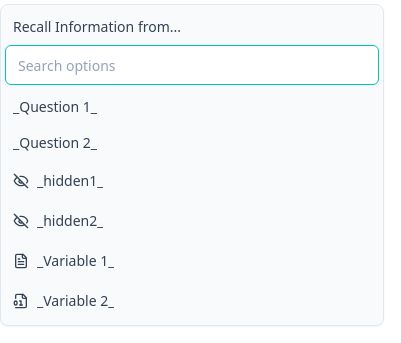
Test: RecallItemSelect › filters recall items based on search input
Step 1. Type "Variable" into the field with placeholder "Search options" → (192, 65), box x1=5 y1=45 x2=379 y2=85
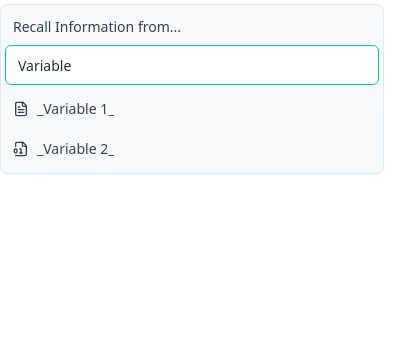
Check: the text "_Variable 1_" is shown, box x1=37 y1=99 x2=114 y2=119
Check: the menu item "_Question 1_" is gone
